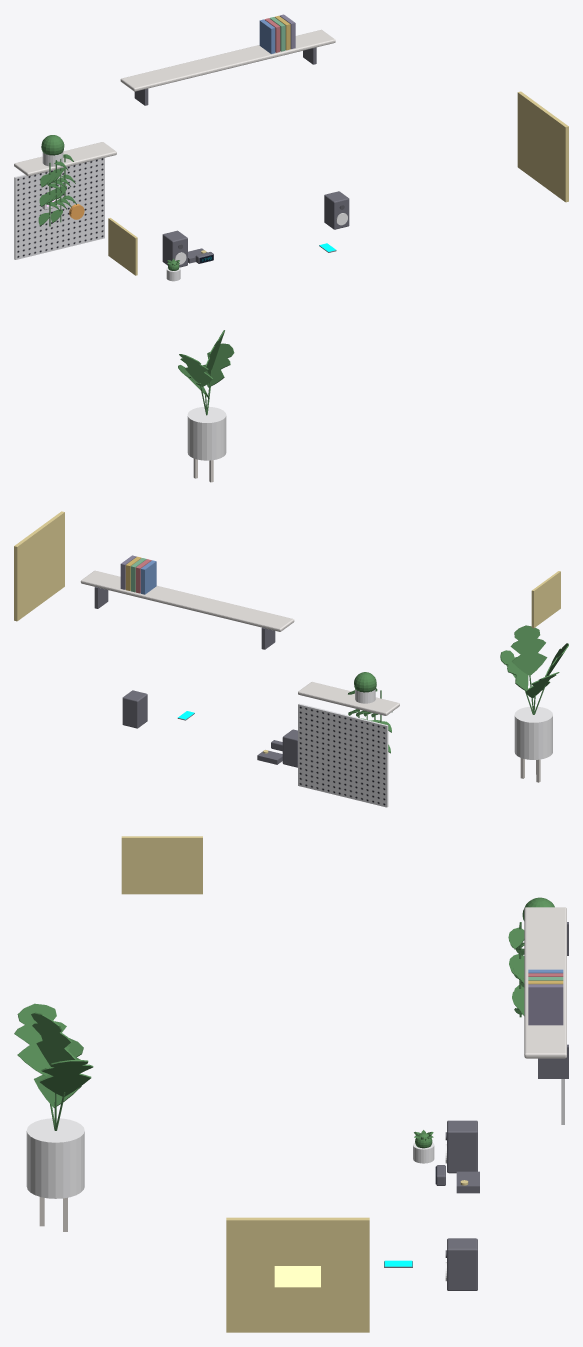
The model's file is group-b-props.glb.
The picture shows the model from 3 angles, top to bottom: view 1: azimuth 30°, elevation 25°; view 2: azimuth 150°, elevation 25°; view 3: azimuth 270°, elevation 25°; orthographic projection. The views are drawn at different scales.
Parts seen in each view (by area): view 1: pegboard_panel, painting_frame, shelf_rear_upper, pot_monstera, shelf_rear_lower, certificate_frame, speaker_right_cabinet, speaker_left_cabinet, monstera_leaf_2; view 2: pegboard_panel, painting_frame, shelf_rear_upper, pot_monstera, shelf_rear_lower, monstera_leaf_4, certificate_frame, speaker_right_cabinet, speaker_left_cabinet, monstera_leaf_2, book_vol_1, ivy_mound; view 3: painting_frame, certificate_frame, shelf_rear_upper, pot_monstera, speaker_right_cabinet, speaker_left_cabinet, book_vol_5, monstera_leaf_3, monstera_leaf_2, monstera_leaf_4, hidden-yor-mark, shelf_bracket_r (+1 smaller).
Boxes of the visible parts, bbox=[...] form: pegboard_panel: bbox=[14, 158, 104, 259]; painting_frame: bbox=[517, 91, 568, 202]; shelf_rear_upper: bbox=[120, 29, 335, 91]; pot_monstera: bbox=[187, 406, 226, 460]; shelf_rear_lower: bbox=[14, 142, 116, 176]; certificate_frame: bbox=[108, 218, 137, 275]; speaker_right_cabinet: bbox=[324, 191, 349, 229]; speaker_left_cabinet: bbox=[162, 230, 187, 267]; monstera_leaf_2: bbox=[203, 343, 234, 387]; pegboard_panel: bbox=[298, 703, 388, 807]; painting_frame: bbox=[14, 511, 64, 621]; shelf_rear_upper: bbox=[80, 570, 294, 631]; pot_monstera: bbox=[514, 706, 552, 759]; shelf_rear_lower: bbox=[298, 682, 399, 715]; monstera_leaf_4: bbox=[510, 625, 547, 675]; certificate_frame: bbox=[531, 571, 560, 628]; speaker_right_cabinet: bbox=[122, 690, 147, 728]; speaker_left_cabinet: bbox=[282, 729, 297, 767]; monstera_leaf_2: bbox=[500, 650, 528, 690]; book_vol_1: bbox=[140, 560, 156, 594]; ivy_mound: bbox=[354, 672, 376, 692]; painting_frame: bbox=[226, 1217, 369, 1332]; certificate_frame: bbox=[121, 836, 202, 894]; shelf_rear_upper: bbox=[524, 907, 566, 1058]; pot_monstera: bbox=[26, 1118, 84, 1198]; speaker_right_cabinet: bbox=[447, 1238, 477, 1290]; speaker_left_cabinet: bbox=[447, 1120, 477, 1173]; book_vol_5: bbox=[528, 984, 563, 1025]; monstera_leaf_3: bbox=[14, 1003, 69, 1076]; monstera_leaf_2: bbox=[39, 1060, 93, 1096]; monstera_leaf_4: bbox=[31, 1012, 76, 1065]; hidden-yor-mark: bbox=[274, 1266, 320, 1287]; shelf_bracket_r: bbox=[538, 1044, 568, 1078].
Size of the model in its own units: 4.18 by 2.38 by 2.87.
21 materials, 3 textured.
